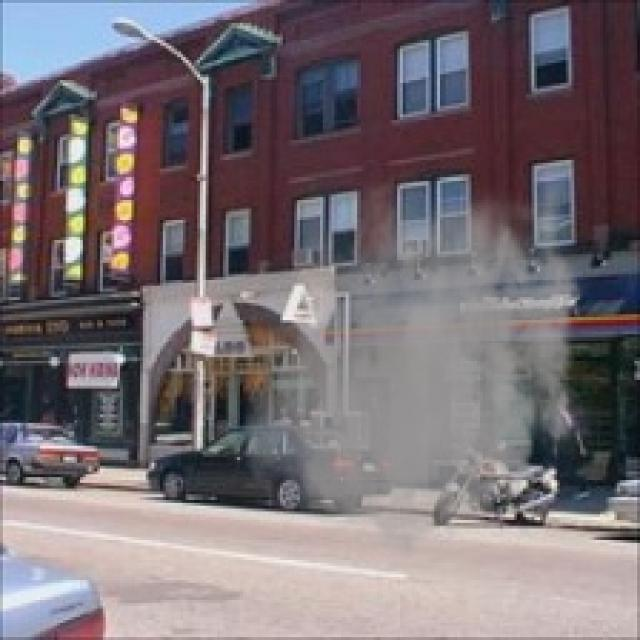Smoke: (231, 160, 600, 580)
